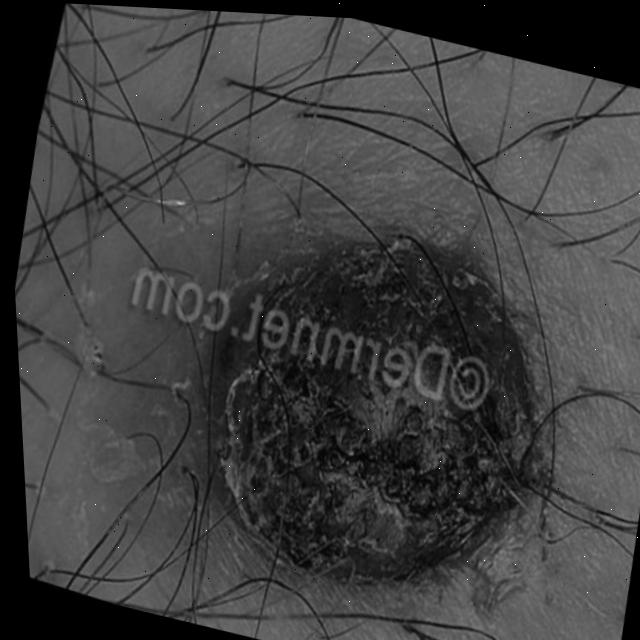Eczema: (31, 151, 605, 640)
